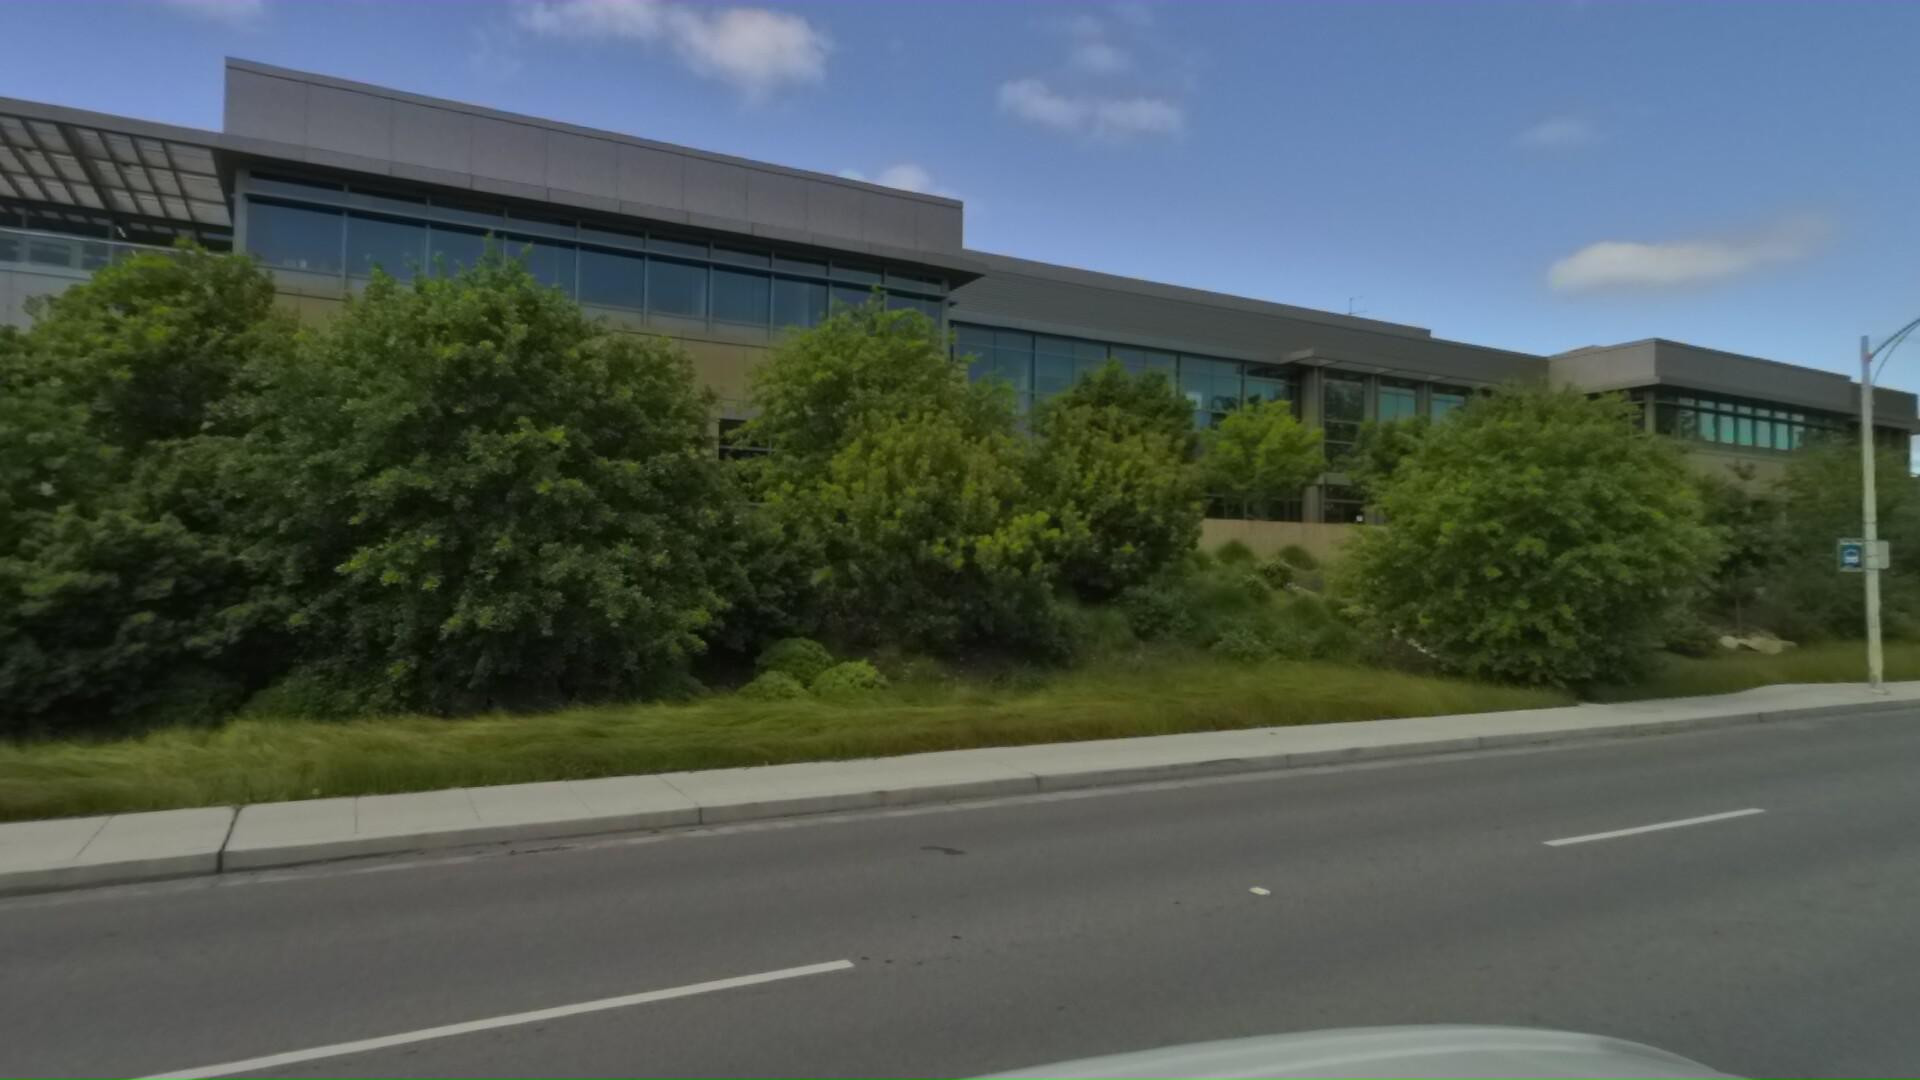other_vehicle: (1847, 440, 1920, 603)
